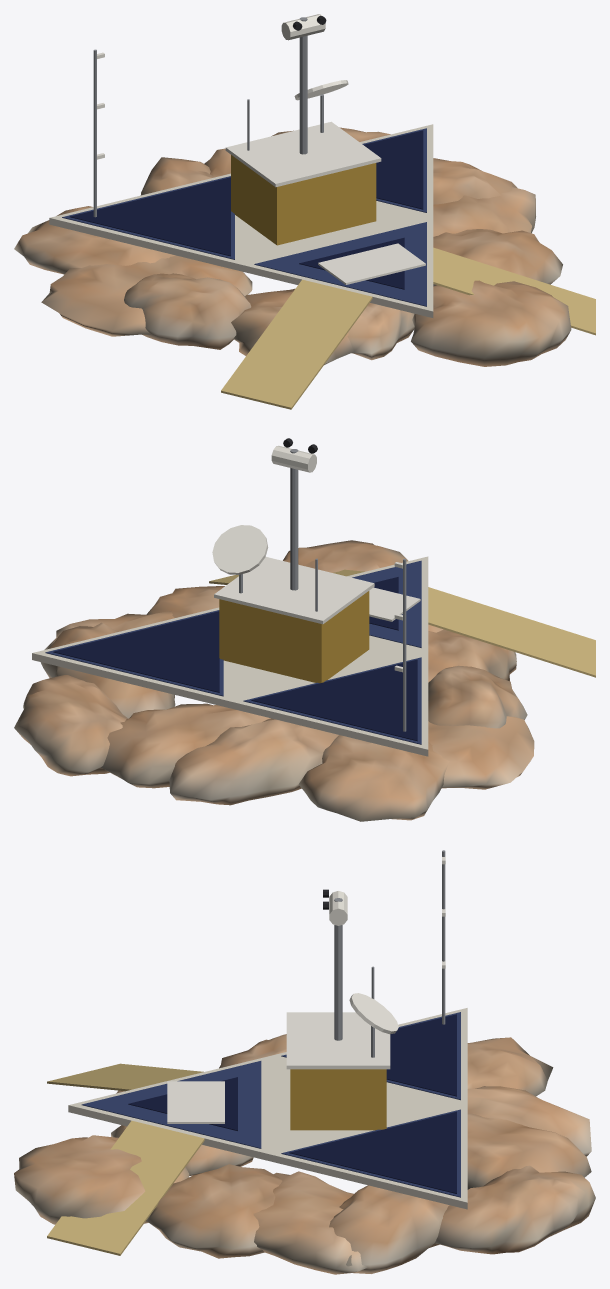
File: lander.glb
3 views of the same model, one above another, from view 1: azimuth 30°, elevation 25°; view 2: azimuth 150°, elevation 25°; view 3: azimuth 270°, elevation 25° (orthographic). The views are drawn at different scales.
Visible parts, largest first — view 1: lander-body, lander-airbags; view 2: lander-airbags, lander-body; view 3: lander-body, lander-airbags.
Part boxes in pixels (x1,y1,x2,y2): lander-body: (49, 14, 595, 409); lander-airbags: (14, 127, 571, 366); lander-airbags: (14, 540, 534, 821); lander-body: (32, 438, 595, 756); lander-body: (47, 850, 467, 1255); lander-airbags: (14, 1034, 595, 1274).
Size of the model in its own units: 2.93 by 1.52 by 3.03.
